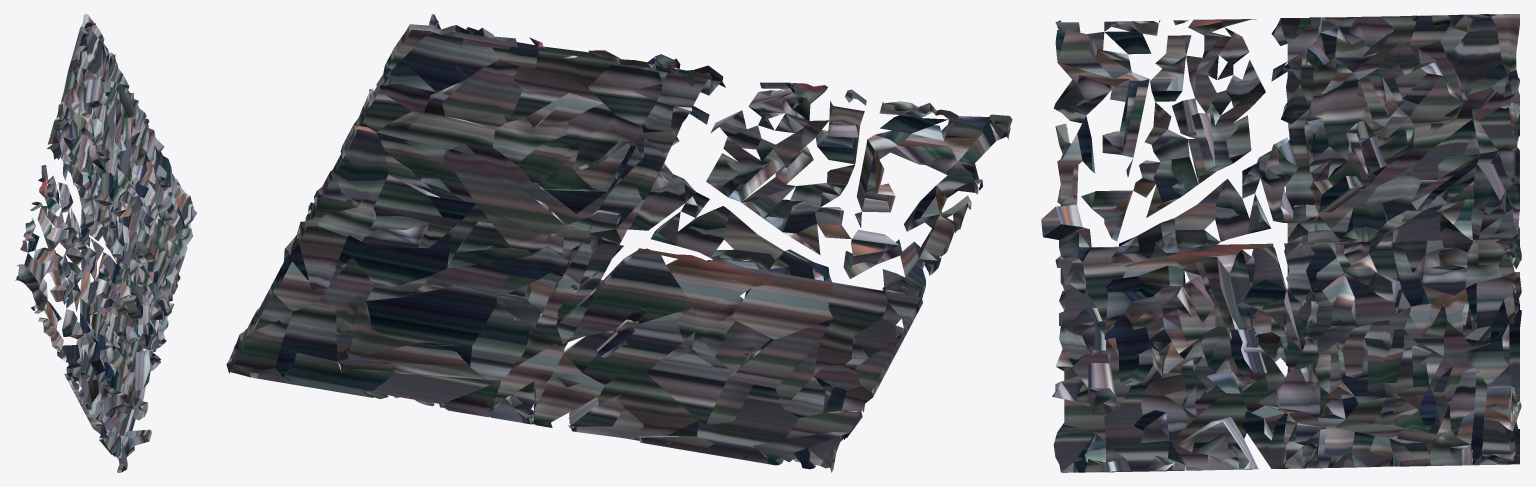
3 views of the same model, side by side, from view 1: azimuth 30°, elevation 25°; view 2: azimuth 150°, elevation 25°; view 3: azimuth 270°, elevation 25° (orthographic). The views are drawn at different scales.
Visible parts, largest first — view 1: node_3043627270436053_mesh0, node_3043627270436053_mesh1; view 2: node_3043627270436053_mesh0, node_3043627270436053_mesh1; view 3: node_3043627270436053_mesh0, node_3043627270436053_mesh1.
Part boxes in pixels (<box>): node_3043627270436053_mesh0: <box>15,14,194,472</box>; node_3043627270436053_mesh1: <box>22,22,196,471</box>; node_3043627270436053_mesh0: <box>226,15,1012,472</box>; node_3043627270436053_mesh1: <box>254,14,1006,468</box>; node_3043627270436053_mesh0: <box>1053,14,1521,472</box>; node_3043627270436053_mesh1: <box>1041,14,1521,472</box>.
Size of the model in its own units: 579 by 582 by 466.
Materials: 2 (2 with a texture image).
